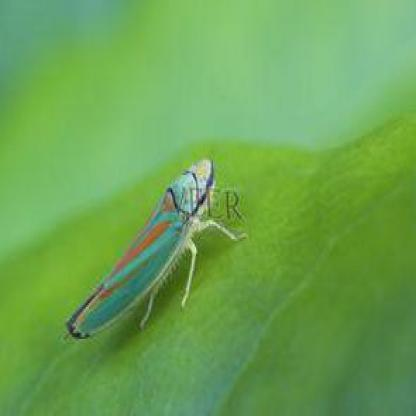green-leafhopper: (68, 152, 228, 341)
